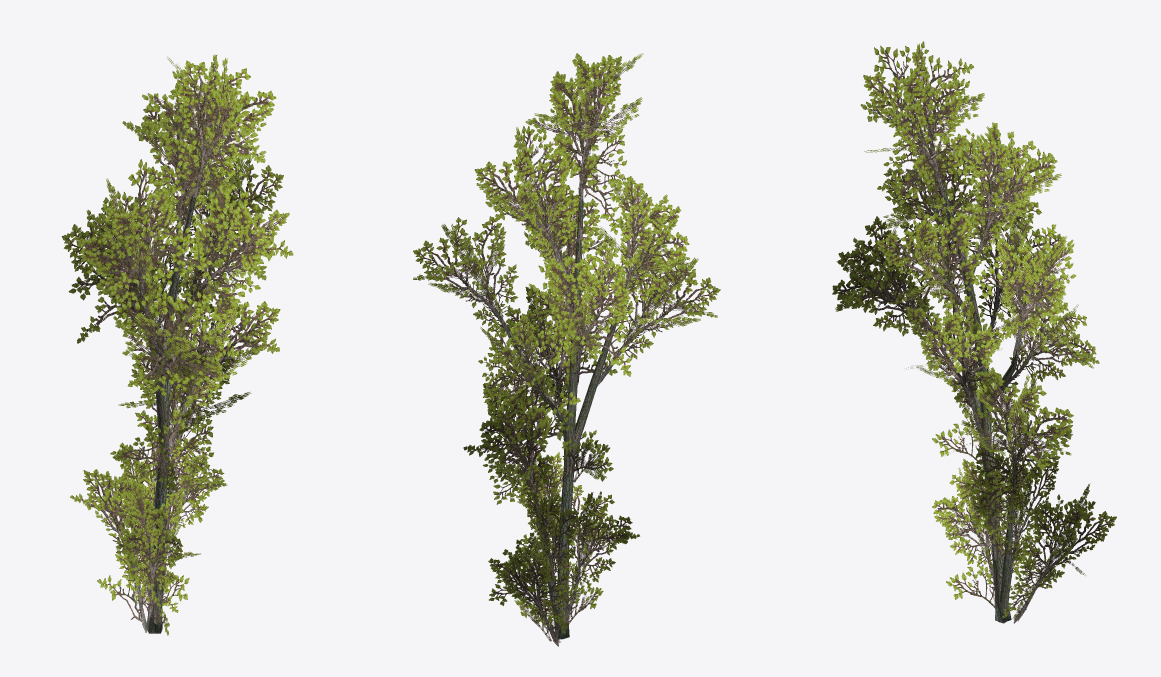
File: poplar-2.glb
The picture shows the model from 3 angles, left to right: view 1: azimuth 30°, elevation 25°; view 2: azimuth 150°, elevation 25°; view 3: azimuth 270°, elevation 25°; orthographic projection. The views are drawn at different scales.
Visible parts, largest first — view 1: poplar-2; view 2: poplar-2; view 3: poplar-2.
Part boxes in pixels (x1,y1,x2,y2): poplar-2: (62,54,293,635); poplar-2: (413,53,720,646); poplar-2: (832,41,1116,623).
Size of the model in its own units: 12.51 by 22.78 by 11.86.
1 material, 1 textured.
